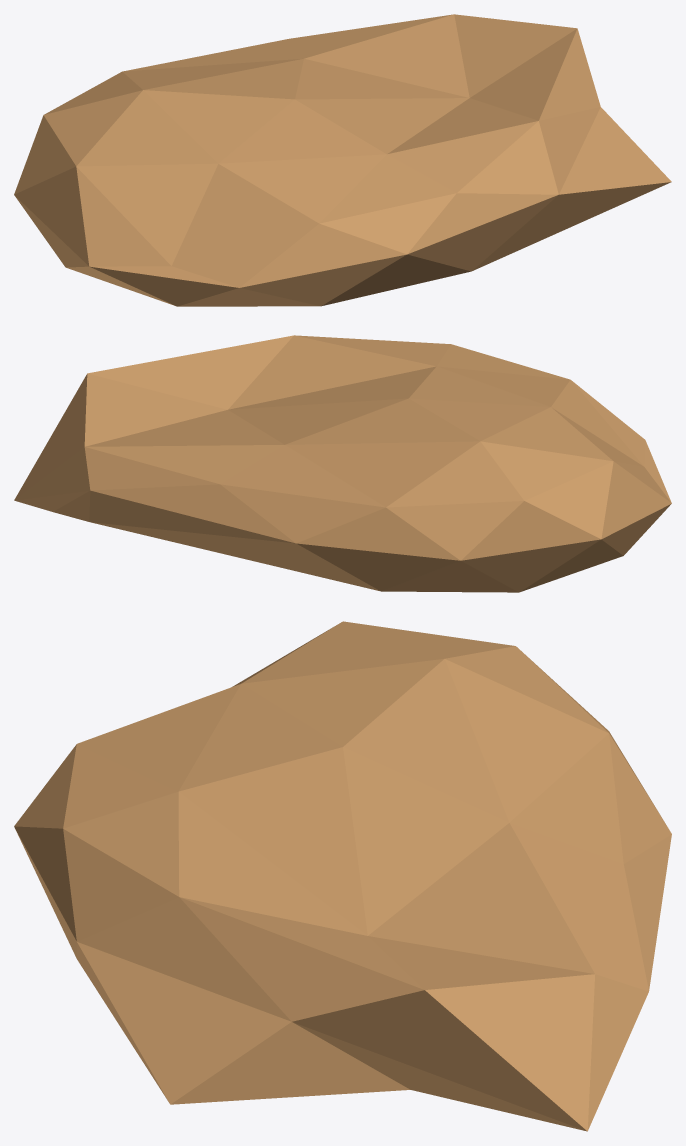
The model's file is Rock Orange Sm 001.fbx.
The picture shows the model from 3 angles, top to bottom: view 1: azimuth 30°, elevation 25°; view 2: azimuth 150°, elevation 25°; view 3: azimuth 270°, elevation 25°; orthographic projection. The views are drawn at different scales.
Visible parts, largest first — view 1: Rock 001.004; view 2: Rock 001.004; view 3: Rock 001.004.
Boxes of the visible parts, bbox=[...] form: Rock 001.004: bbox=[14, 14, 671, 306]; Rock 001.004: bbox=[14, 335, 671, 592]; Rock 001.004: bbox=[14, 621, 671, 1131].
Bounding box in the file's own units: 120 × 28.31 × 88.18.
